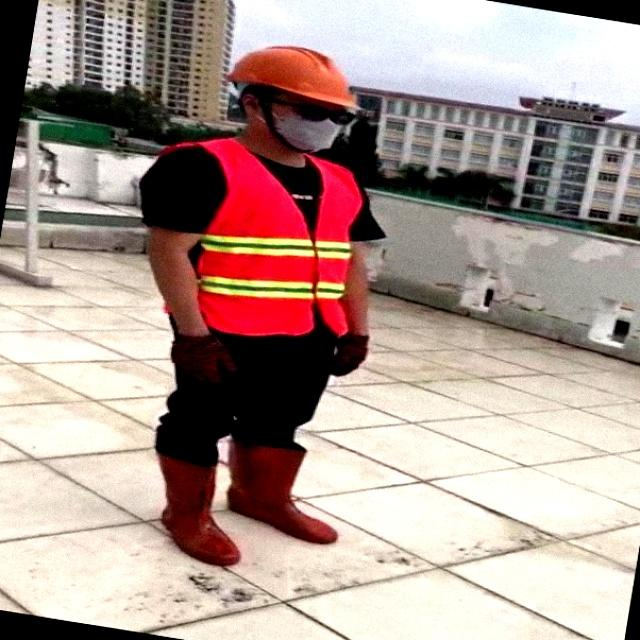Capacete: (227, 46, 356, 108)
Colete: (161, 138, 362, 335)
Oculos: (272, 100, 355, 125)
